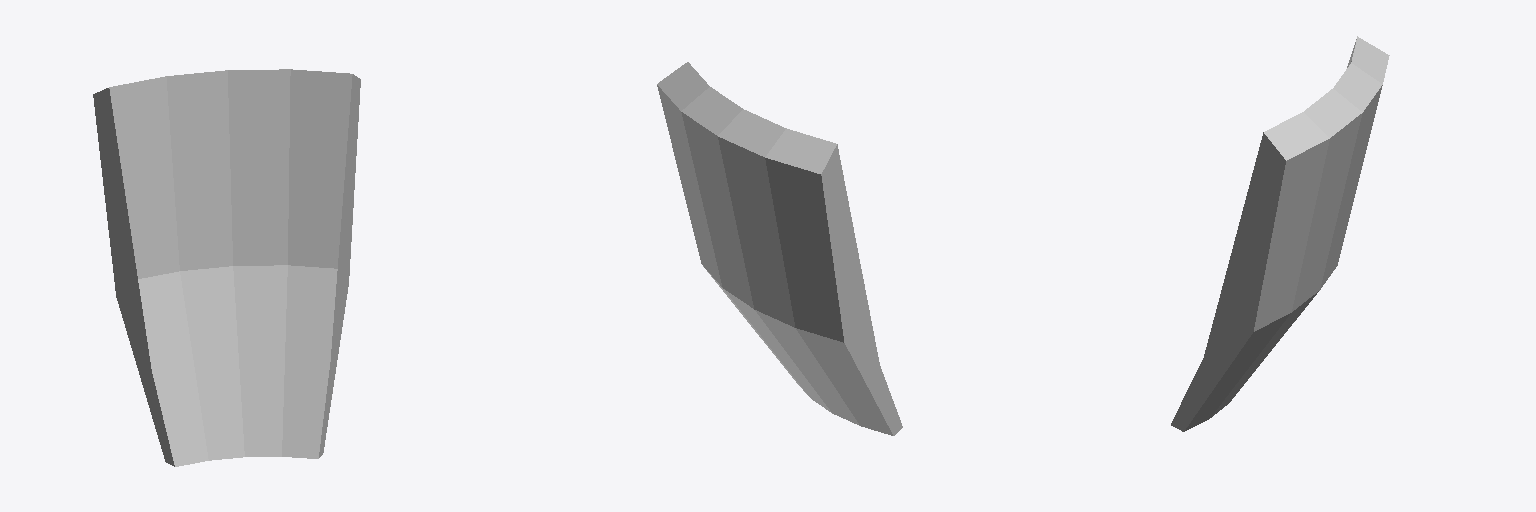
Rendered from Level_3_7.obj.
3 renders of one model, left to right at view 1: azimuth 30°, elevation 25°; view 2: azimuth 150°, elevation 25°; view 3: azimuth 270°, elevation 25°, orthographic.
Parts seen in each view (by area): view 1: Level_3_7_Cylinder.043; view 2: Level_3_7_Cylinder.043; view 3: Level_3_7_Cylinder.043.
Part boxes in pixels (x1,y1,x2,y2): Level_3_7_Cylinder.043: (93,69,360,466); Level_3_7_Cylinder.043: (657,62,902,435); Level_3_7_Cylinder.043: (1171,36,1389,431).
Size of the model in its own units: 1.51 by 2.23 by 1.33.